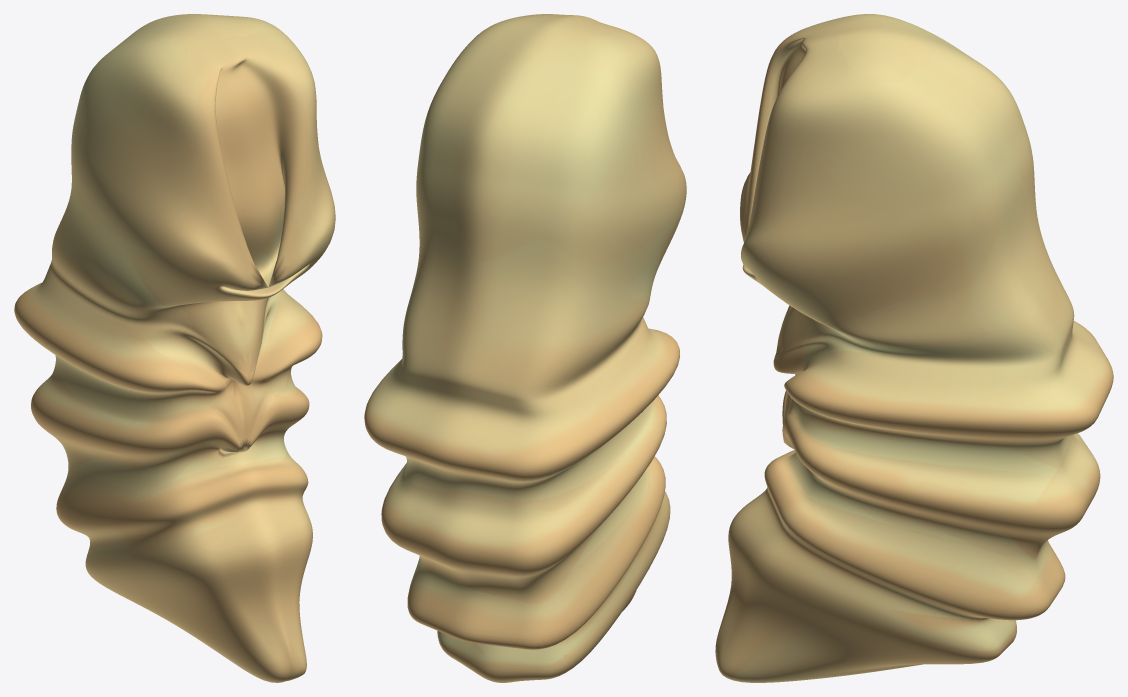
The model's file is pupa.glb.
The picture shows the model from 3 angles, left to right: view 1: azimuth 30°, elevation 25°; view 2: azimuth 150°, elevation 25°; view 3: azimuth 270°, elevation 25°; orthographic projection. The views are drawn at different scales.
Visible parts, largest first — view 1: Object_2; view 2: Object_2; view 3: Object_2.
Boxes of the visible parts, x1,y1,x2,y2 form: Object_2: (14, 14, 335, 682); Object_2: (364, 14, 686, 682); Object_2: (715, 14, 1113, 682).
Size of the model in its own units: 2.53 by 6.8 by 3.8.
Materials: 1 (1 with a texture image).
